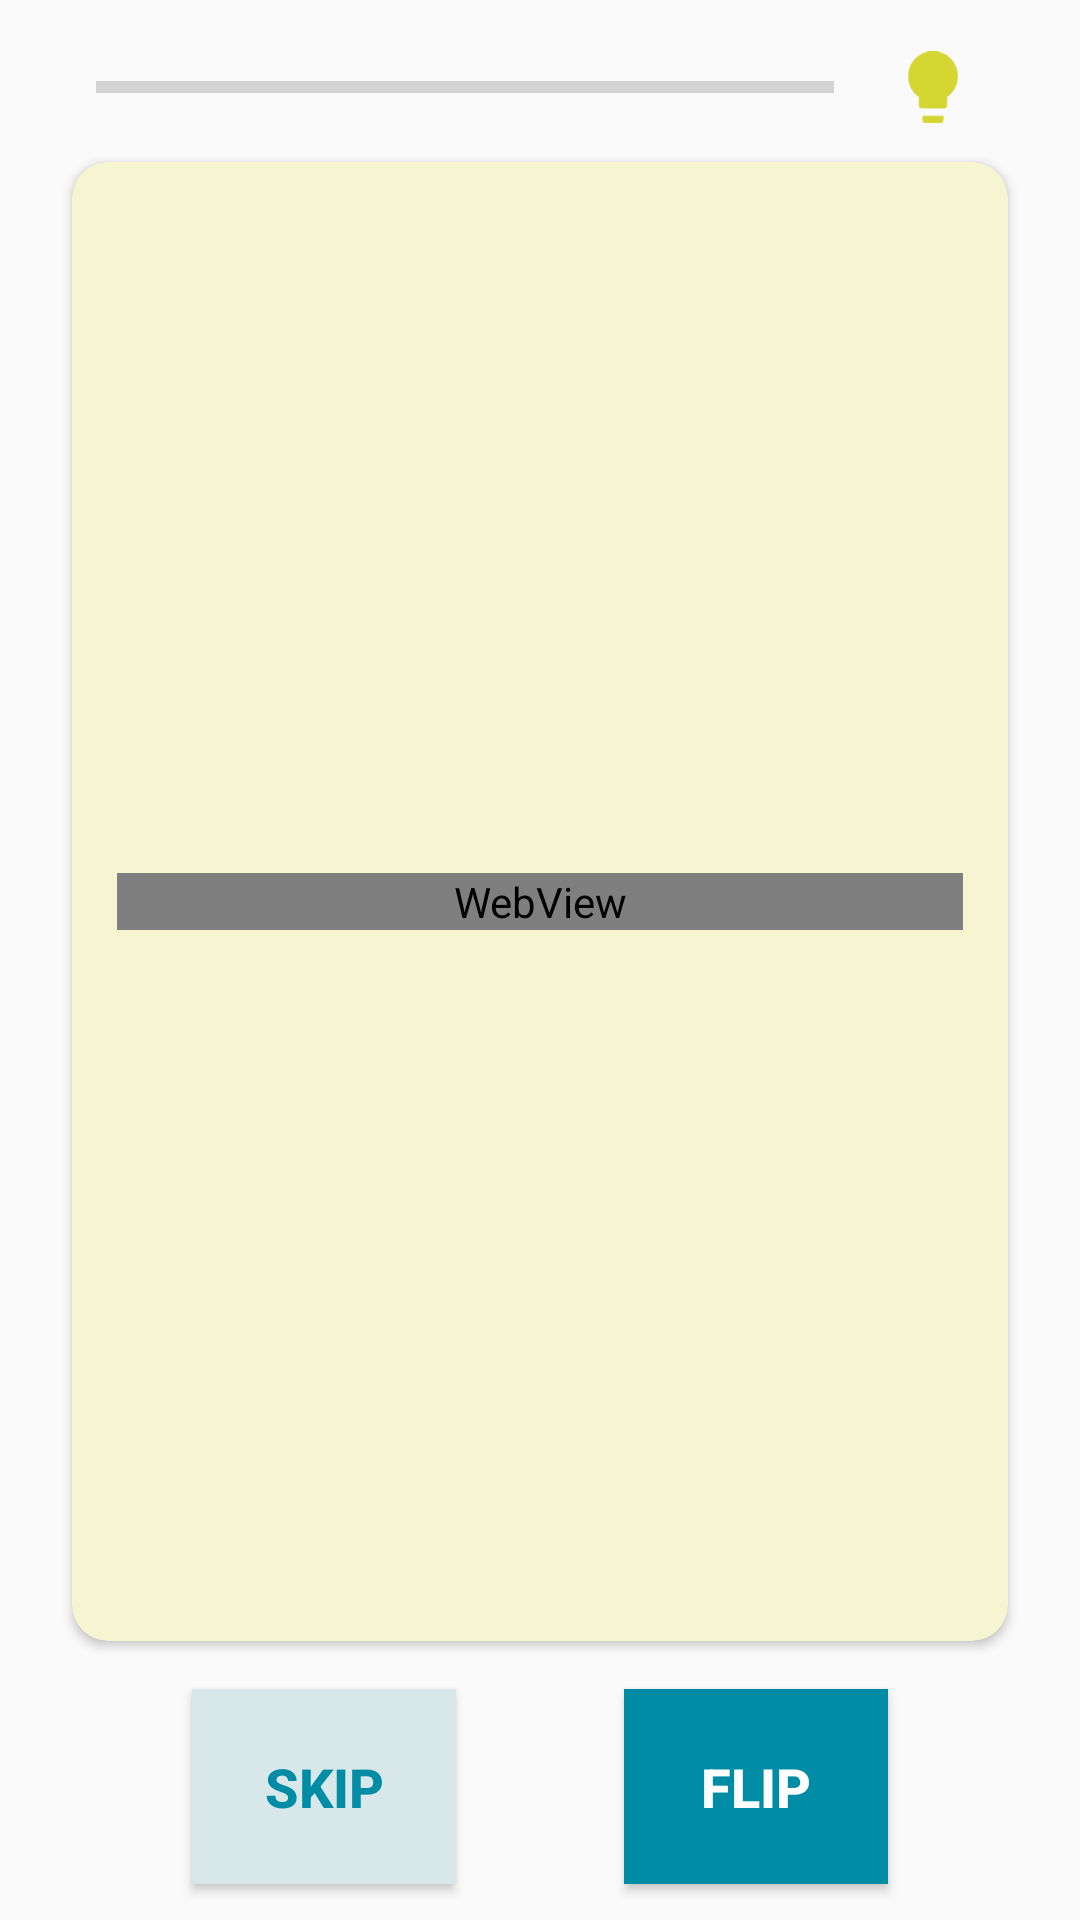

Screen size 1080*1920. Icon name, then its center in pixels as (x=x, y=y):
hint on: (x=933, y=87)
